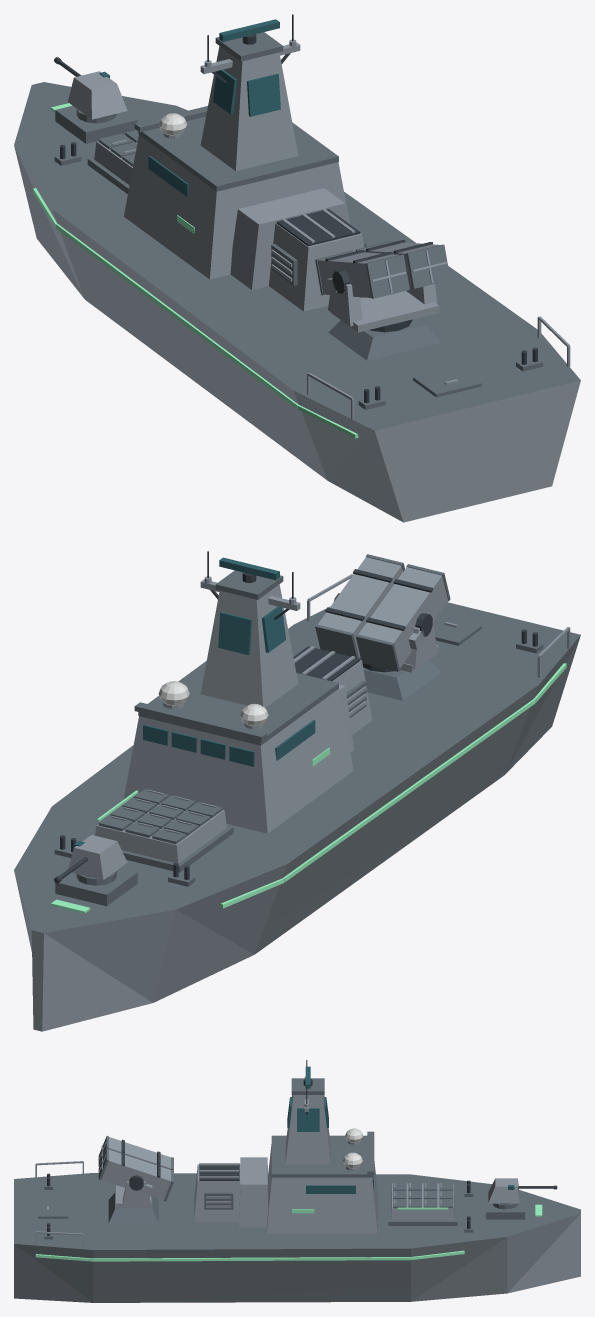
File: ESC_CAP_T2.fbx
The picture shows the model from 3 angles, top to bottom: view 1: azimuth 30°, elevation 25°; view 2: azimuth 150°, elevation 25°; view 3: azimuth 270°, elevation 25°; orthographic projection. The views are drawn at different scales.
Parts seen in each view (by area): view 1: ContinuousHull.002, Deckhouse.002, IntegratedRadarEnclosure, Roof.002, AftServiceCabin.002, FunnelEnclosure.002, SAMFixedPedestal.001, SAMSlewTable, PrimaryGunCupola.002, PrimaryGunDeckPlinth, RoleHullStripe-1_1, SAMCanisterBank_02 (+9 smaller); view 2: ContinuousHull.002, Deckhouse.002, IntegratedRadarEnclosure, Roof.002, SAMCanisterBank_02, SAMCanisterBank_01, ForwardVLSCasing.002, PrimaryGunCupola.002, SAMFixedPedestal.001, PrimaryGunDeckPlinth, RoleHullStripe-1_1, BridgeBrow (+13 smaller); view 3: ContinuousHull.002, Deckhouse.002, Roof.002, IntegratedRadarEnclosure, AftServiceCabin.002, SAMCanisterBank_01, FunnelEnclosure.002, RoleHullStripe1_1, ForwardVLSCasing.002, SAMFixedPedestal.001, SAMCanisterBank_02, PrimaryGunCupola.002 (+10 smaller).
Part boxes in pixels (x1,y1,x2,y2): ContinuousHull.002: [14, 82, 580, 522]; Deckhouse.002: [124, 135, 349, 279]; IntegratedRadarEnclosure: [200, 46, 298, 170]; Roof.002: [138, 116, 338, 191]; AftServiceCabin.002: [230, 188, 347, 289]; FunnelEnclosure.002: [268, 223, 364, 311]; SAMFixedPedestal.001: [328, 318, 440, 360]; SAMSlewTable: [331, 291, 439, 332]; PrimaryGunCupola.002: [68, 71, 127, 119]; PrimaryGunDeckPlinth: [55, 105, 137, 143]; RoleHullStripe-1_1: [55, 223, 298, 408]; SAMCanisterBank_02: [317, 251, 398, 297]; ContinuousHull.002: [14, 602, 580, 1031]; Deckhouse.002: [124, 689, 353, 833]; IntegratedRadarEnclosure: [200, 584, 298, 707]; Roof.002: [138, 661, 338, 745]; SAMCanisterBank_02: [358, 567, 448, 667]; SAMCanisterBank_01: [318, 557, 402, 658]; ForwardVLSCasing.002: [95, 796, 226, 863]; PrimaryGunCupola.002: [68, 835, 127, 880]; SAMFixedPedestal.001: [363, 660, 441, 700]; PrimaryGunDeckPlinth: [55, 868, 137, 906]; RoleHullStripe-1_1: [283, 699, 535, 882]; BridgeBrow: [134, 702, 266, 741]; ContinuousHull.002: [14, 1173, 580, 1302]; Deckhouse.002: [266, 1144, 377, 1233]; Roof.002: [271, 1135, 372, 1177]; IntegratedRadarEnclosure: [285, 1095, 330, 1164]; AftServiceCabin.002: [239, 1157, 268, 1227]; SAMCanisterBank_01: [101, 1149, 171, 1200]; FunnelEnclosure.002: [194, 1164, 240, 1222]; RoleHullStripe1_1: [93, 1257, 410, 1261]; ForwardVLSCasing.002: [391, 1183, 454, 1220]; SAMFixedPedestal.001: [108, 1192, 158, 1223]; SAMCanisterBank_02: [108, 1137, 171, 1169]; PrimaryGunCupola.002: [488, 1178, 519, 1203].
Bounding box in the file's own units: 290 × 353 × 900.
